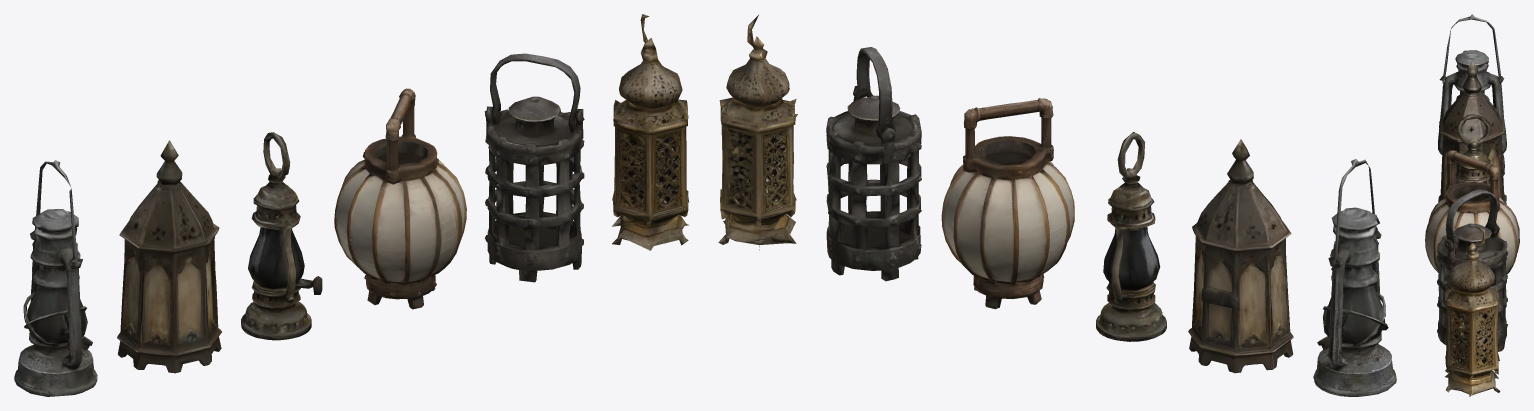
The model's file is lamps_hand.glb.
3 renders of one model, left to right at view 1: azimuth 30°, elevation 25°; view 2: azimuth 150°, elevation 25°; view 3: azimuth 270°, elevation 25°, orthographic. The views are drawn at different scales.
Visible parts, largest first — view 1: lamp_hand_cloth, lamp_hand_horn, lamp_hand_cage, lamp_hand_persian, lamp_hand_storm, lamp_hand_oil; view 2: lamp_hand_cloth, lamp_hand_horn, lamp_hand_cage, lamp_hand_persian, lamp_hand_storm, lamp_hand_oil; view 3: lamp_hand_persian, lamp_hand_cage, lamp_hand_cloth, lamp_hand_horn, lamp_hand_storm, lamp_hand_oil.
Boxes of the visible parts, x1,y1,x2,y2 form: lamp_hand_cloth: [334, 88, 466, 309]; lamp_hand_horn: [117, 140, 221, 373]; lamp_hand_cage: [484, 53, 584, 282]; lamp_hand_persian: [612, 14, 689, 250]; lamp_hand_storm: [14, 160, 97, 396]; lamp_hand_oil: [241, 132, 322, 340]; lamp_hand_cloth: [941, 98, 1074, 309]; lamp_hand_horn: [1188, 139, 1293, 373]; lamp_hand_cage: [826, 47, 921, 281]; lamp_hand_persian: [718, 15, 797, 250]; lamp_hand_storm: [1313, 159, 1396, 396]; lamp_hand_oil: [1096, 132, 1166, 341]; lamp_hand_persian: [1444, 226, 1500, 396]; lamp_hand_cage: [1437, 189, 1508, 351]; lamp_hand_cloth: [1425, 150, 1519, 274]; lamp_hand_horn: [1438, 60, 1506, 204]; lamp_hand_storm: [1438, 14, 1506, 154]; lamp_hand_oil: [1455, 113, 1490, 184].
Size of the model in its own units: 1.16 by 0.367 by 0.1963.
1 material, 1 textured.
